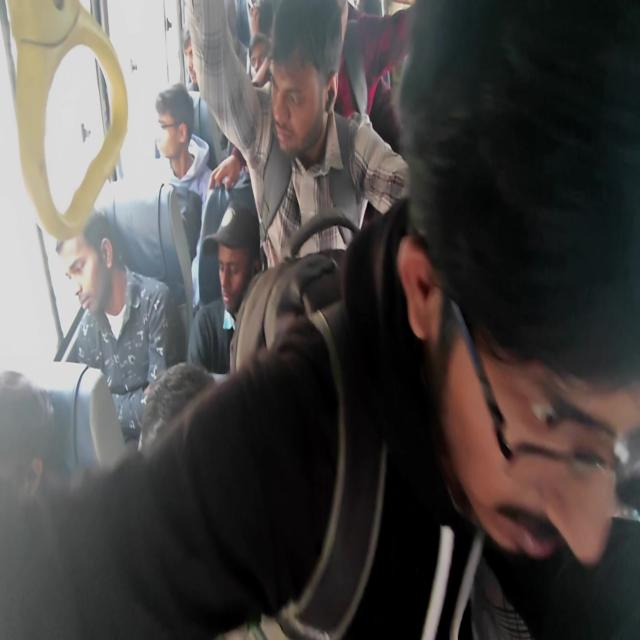person: (445, 112, 640, 588), (0, 397, 58, 575), (49, 222, 121, 325), (139, 408, 191, 531), (275, 29, 323, 154), (155, 99, 210, 193), (215, 222, 262, 308), (244, 40, 282, 111), (188, 30, 218, 97), (329, 0, 348, 68), (248, 2, 267, 34)
